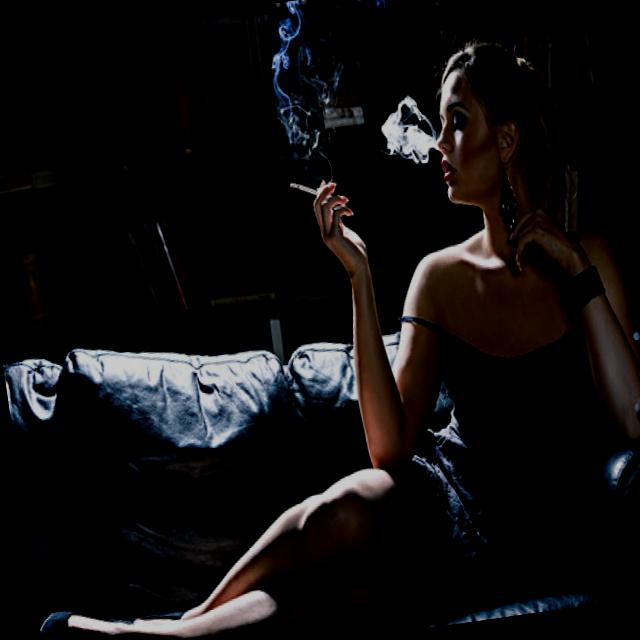smoke: (286, 174, 320, 200)
